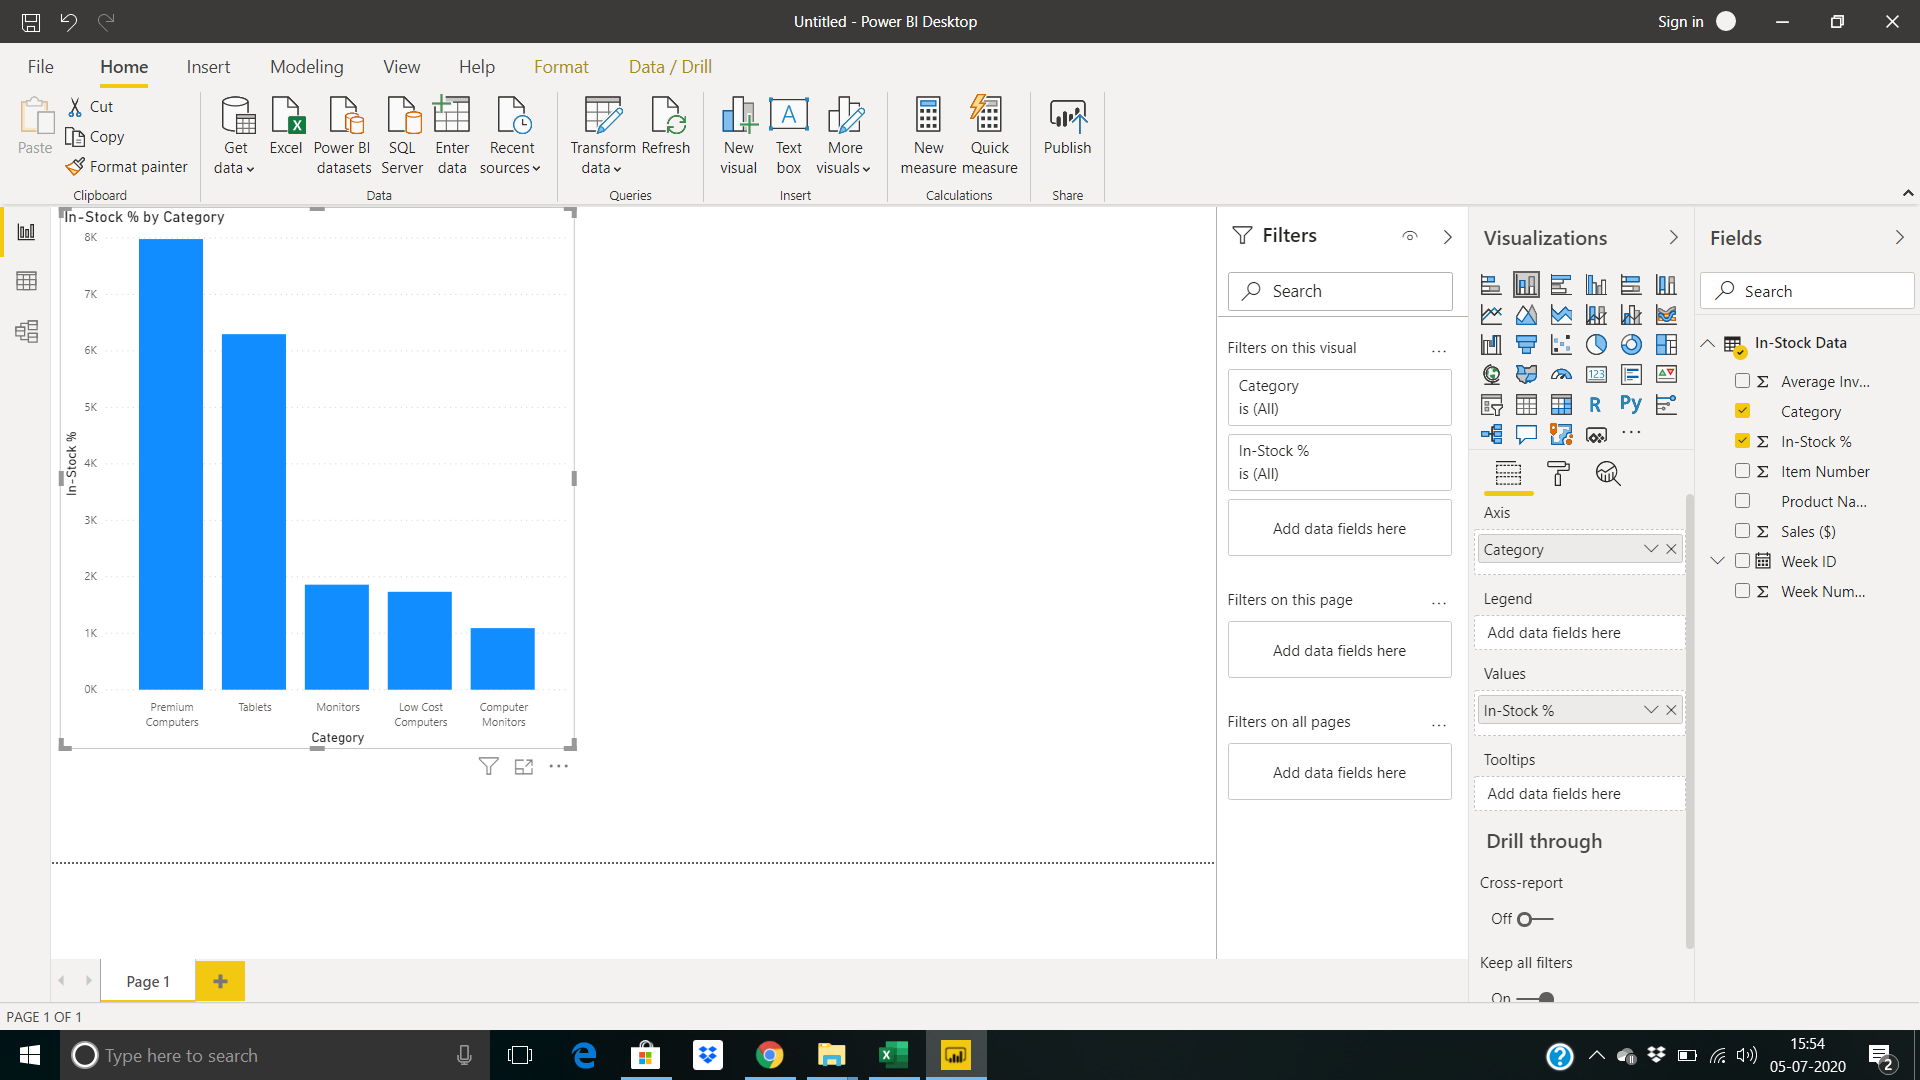

The dashboard page shown, as its layout file describes it:
{"tool":"powerbi","page":{"name":"Page 1","canvas":[1280,720],"ordinal":0},"visuals":[{"type":"columnChart","fields":{"Category":["In-Stock Data.Category"],"Y":["Sum(In-Stock Data.In-Stock %)"]},"box":[9.6,0,565.8,596.1],"z":0},{"type":"clusteredColumnChart","fields":{"Y":["In-Stock Data.Measure"],"Category":["In-Stock Data.Category","In-Stock Data.Category Hierarchy.Category","In-Stock Data.Category Hierarchy.Item Number"]},"box":[541.1,35.7,611.2,560.3],"z":1}]}

Visuals, with their boxes on the page's 1280x720 design canvas (x1, y1, x2, y2). These are canvas units, not pixel positions in the 1920x1080 screenshot, which may show the page scaled, cropped or inside an application window:
columnChart - In-Stock Data.Category x Sum(In-Stock Data.In-Stock %): bbox(10, 0, 575, 596)
clusteredColumnChart - In-Stock Data.Measure x In-Stock Data.Category: bbox(541, 36, 1152, 596)
